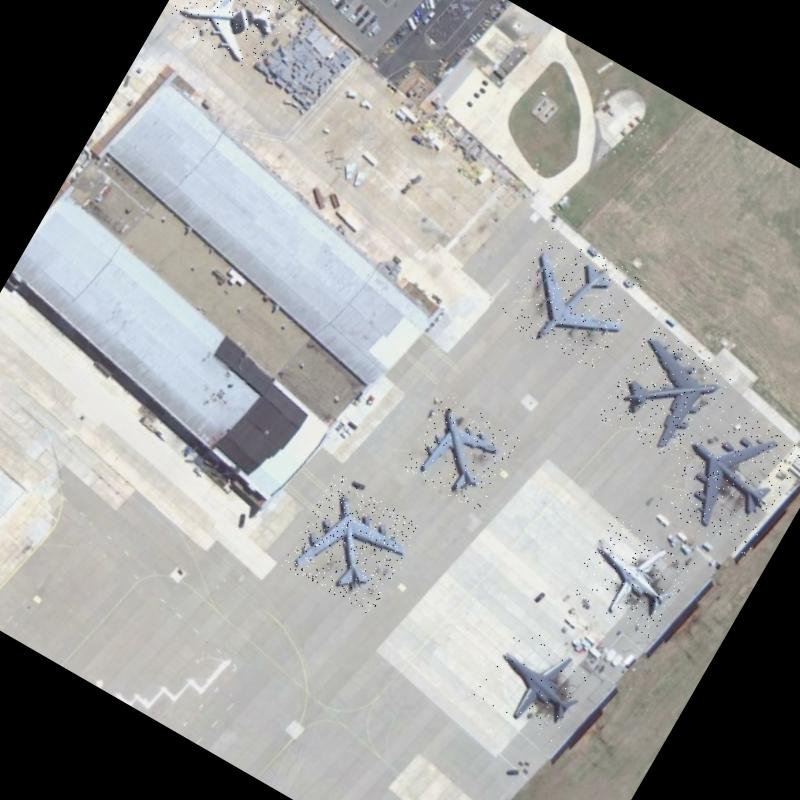A10: (469, 618, 598, 744), (568, 514, 696, 640)
A14: (401, 392, 522, 513)
A7: (165, 0, 301, 74)
A8: (653, 396, 800, 558), (496, 224, 647, 374), (280, 473, 424, 618), (596, 322, 736, 466)
